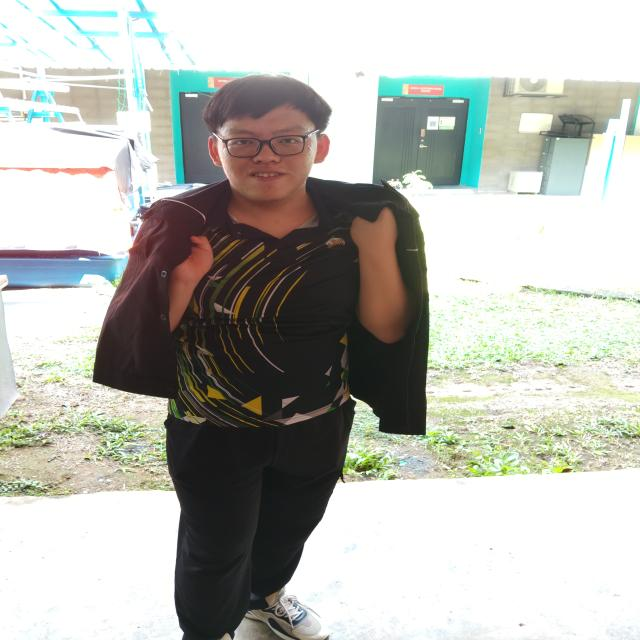person_without_labcoat: (95, 74, 428, 640)
